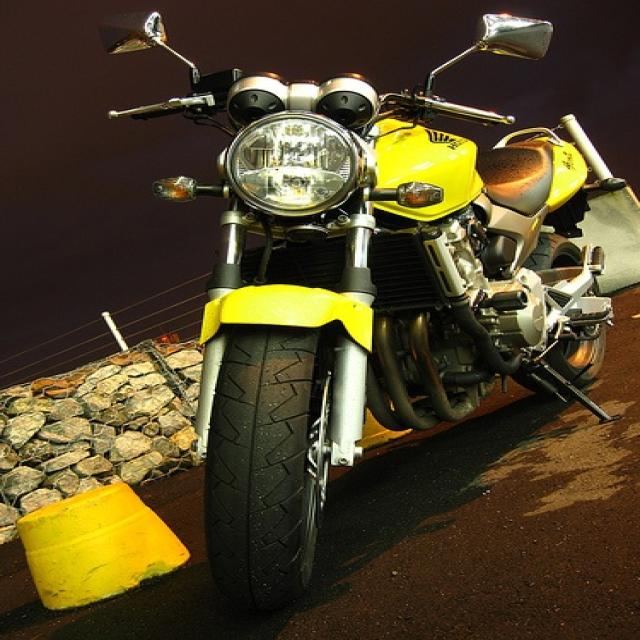motorbike: (100, 5, 612, 604)
